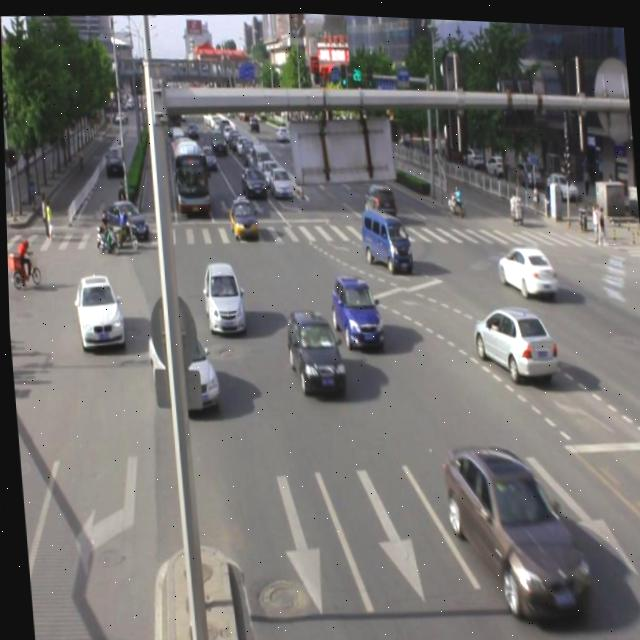car: (437, 434, 591, 619), (144, 323, 219, 416), (471, 299, 557, 378), (283, 302, 346, 395), (327, 270, 383, 350), (72, 271, 124, 351), (199, 256, 246, 336), (493, 238, 557, 295)
truck: (357, 204, 412, 272)
